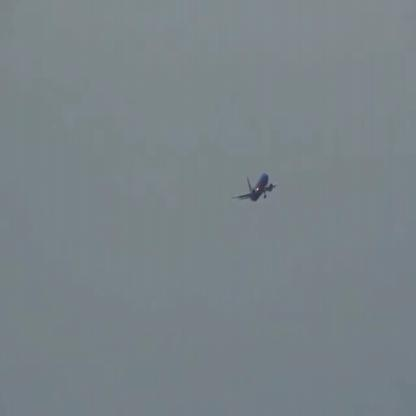CIV_Plane: (230, 169, 278, 206)
